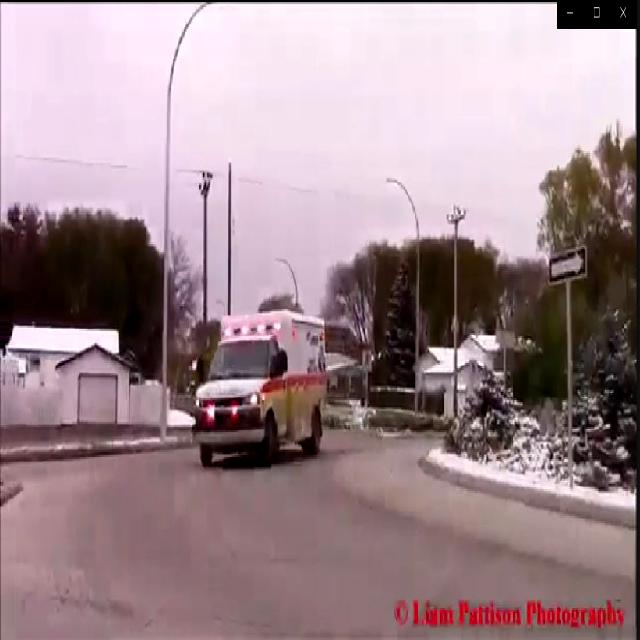emergency: (188, 304, 330, 474)
